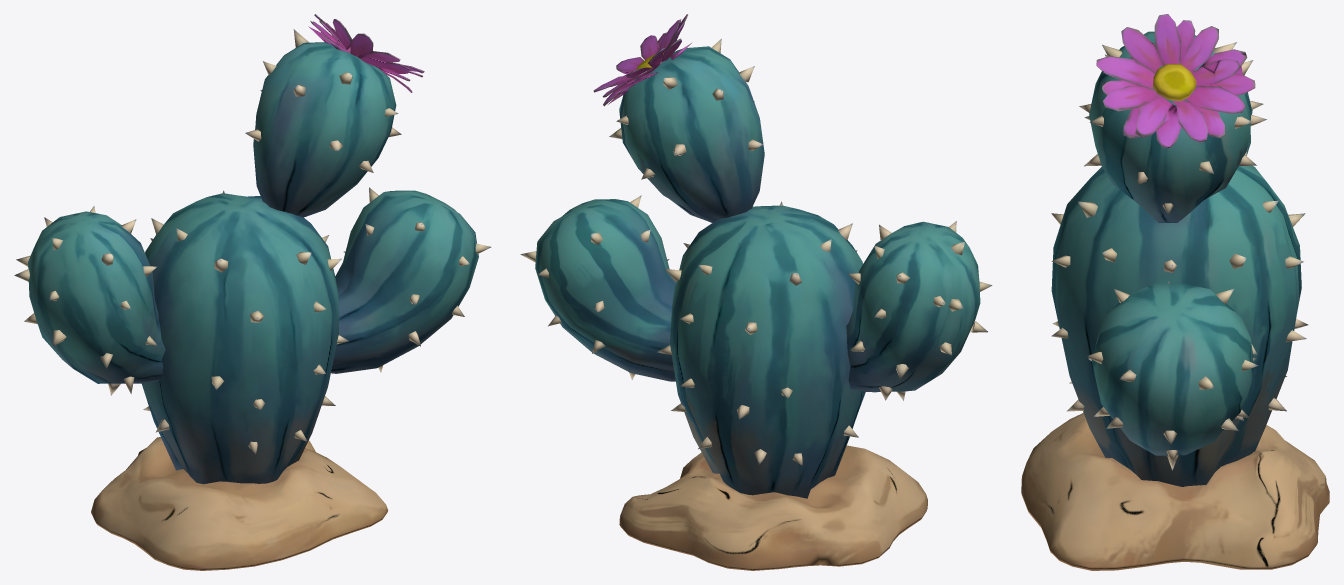
The model's file is tarhut_flor.glb.
3 renders of one model, left to right at view 1: azimuth 30°, elevation 25°; view 2: azimuth 150°, elevation 25°; view 3: azimuth 270°, elevation 25°, orthographic. The views are drawn at different scales.
Visible parts, largest first — view 1: geometry_0; view 2: geometry_0; view 3: geometry_0.
Boxes of the visible parts, x1,y1,x2,y2 form: geometry_0: [14, 14, 491, 570]; geometry_0: [520, 14, 992, 570]; geometry_0: [1021, 14, 1329, 570].
Bounding box in the file's own units: 0.9453 × 0.9512 × 0.4863.
1 material, 1 textured.
